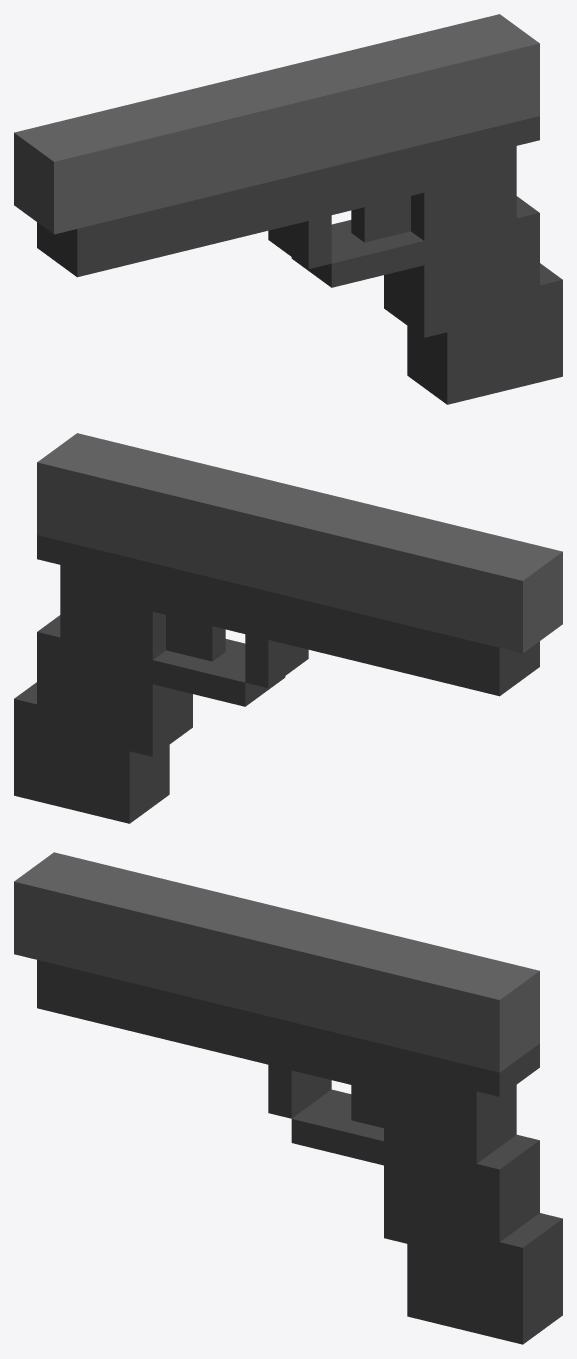
The model's file is Gun-4.obj.
The picture shows the model from 3 angles, top to bottom: view 1: azimuth 30°, elevation 25°; view 2: azimuth 150°, elevation 25°; view 3: azimuth 330°, elevation 25°; orthographic projection.
Parts seen in each view (by area): view 1: Gun-4; view 2: Gun-4; view 3: Gun-4.
Boxes of the visible parts, bbox=[...] form: Gun-4: bbox=[14, 14, 562, 404]; Gun-4: bbox=[14, 433, 562, 823]; Gun-4: bbox=[14, 852, 562, 1344].
Bounding box in the file's own units: 22 × 14 × 3.
1 material, 1 textured.
